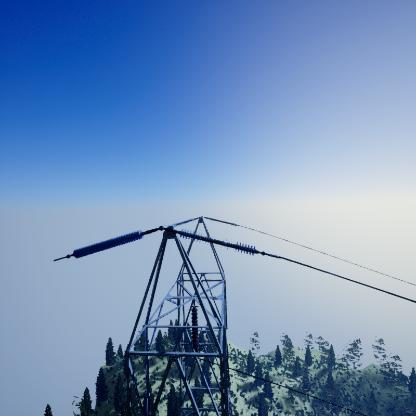insulator: (179, 229, 256, 257), (73, 230, 143, 258), (192, 307, 199, 349)
